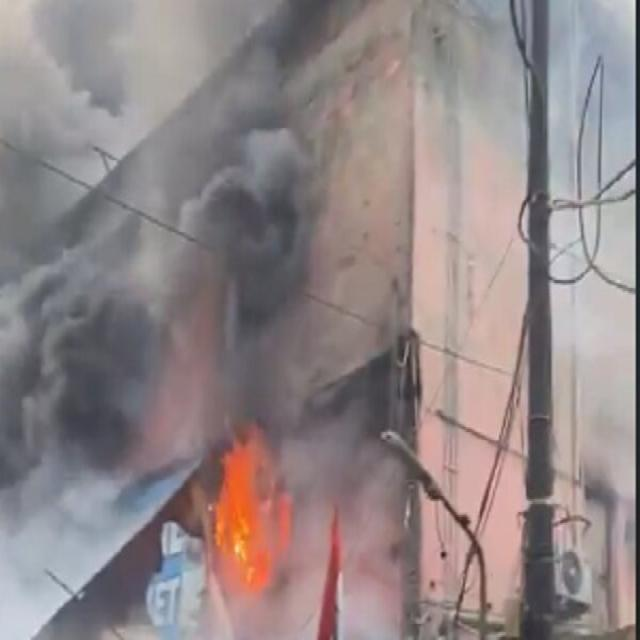fire: (215, 433, 269, 592)
